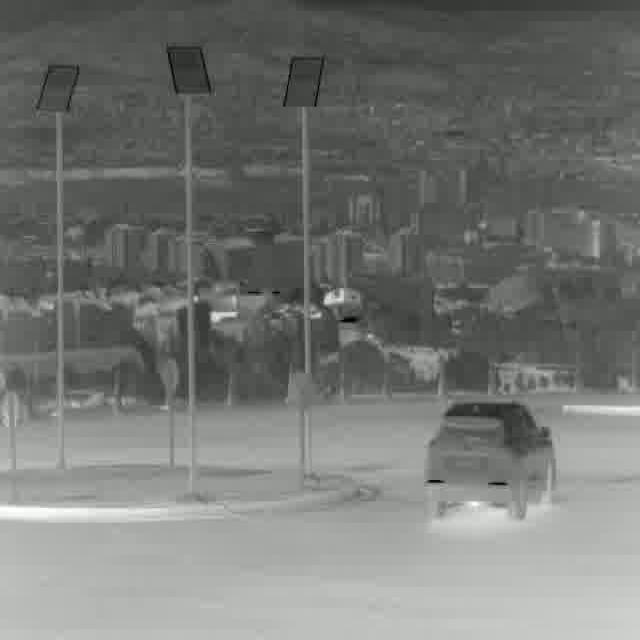Car: (424, 402, 556, 518)
